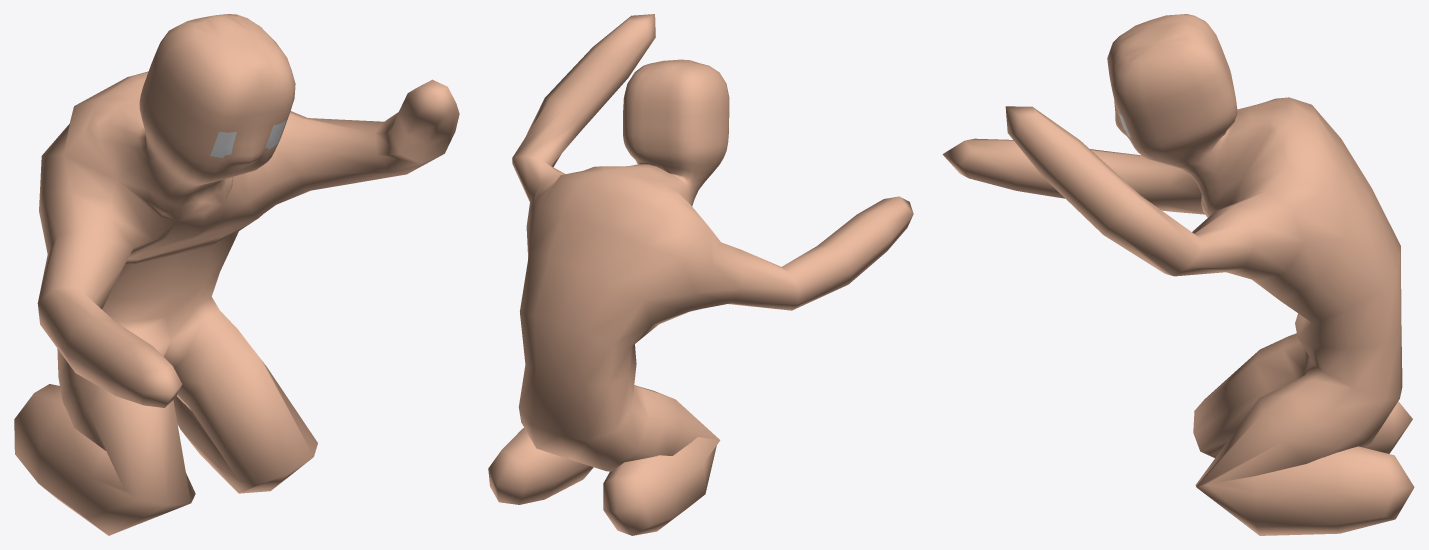
File: Bloc Destructible Cage Humain 2.fbx
3 views of the same model, side by side, from view 1: azimuth 30°, elevation 25°; view 2: azimuth 150°, elevation 25°; view 3: azimuth 270°, elevation 25° (orthographic). The views are drawn at different scales.
Parts seen in each view (by area): view 1: corps; view 2: corps; view 3: corps.
Part boxes in pixels (x1,y1,x2,y2): corps: (14, 14, 459, 535); corps: (488, 14, 913, 535); corps: (942, 14, 1414, 535).
Bounding box in the file's own units: 124 × 157 × 142.
